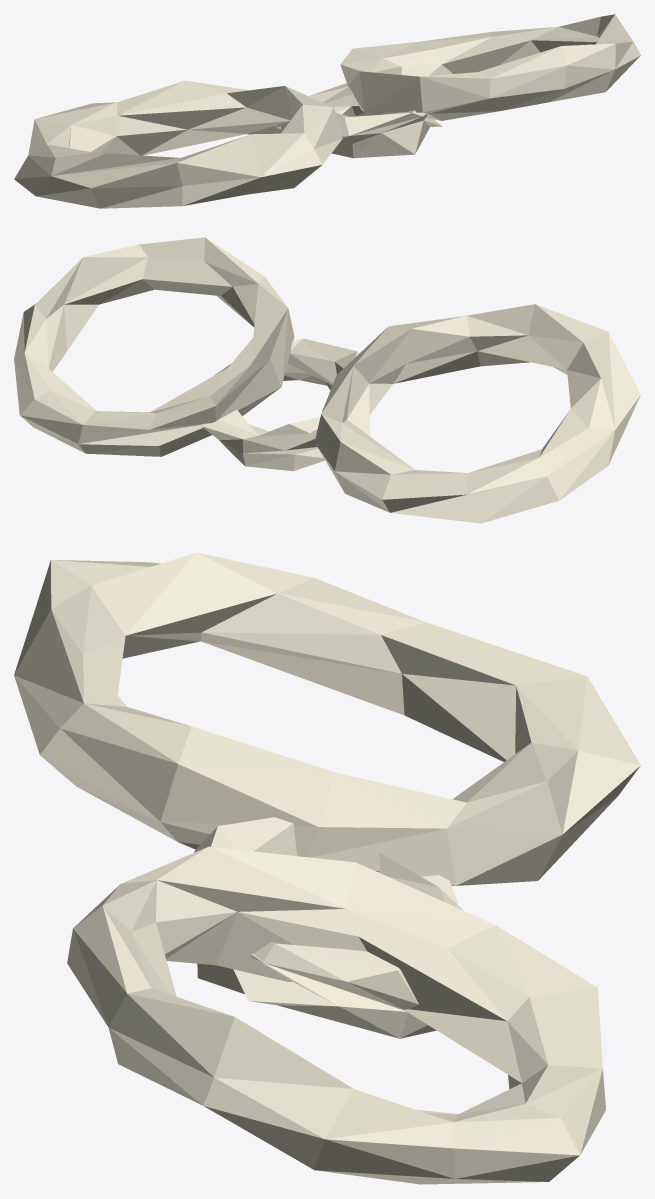
File: cloud.obj
3 renders of one model, top to bottom at view 1: azimuth 30°, elevation 25°; view 2: azimuth 150°, elevation 25°; view 3: azimuth 270°, elevation 25°, orthographic. The views are drawn at different scales.
Bounding box in the file's own units: 837 × 173 × 409.
